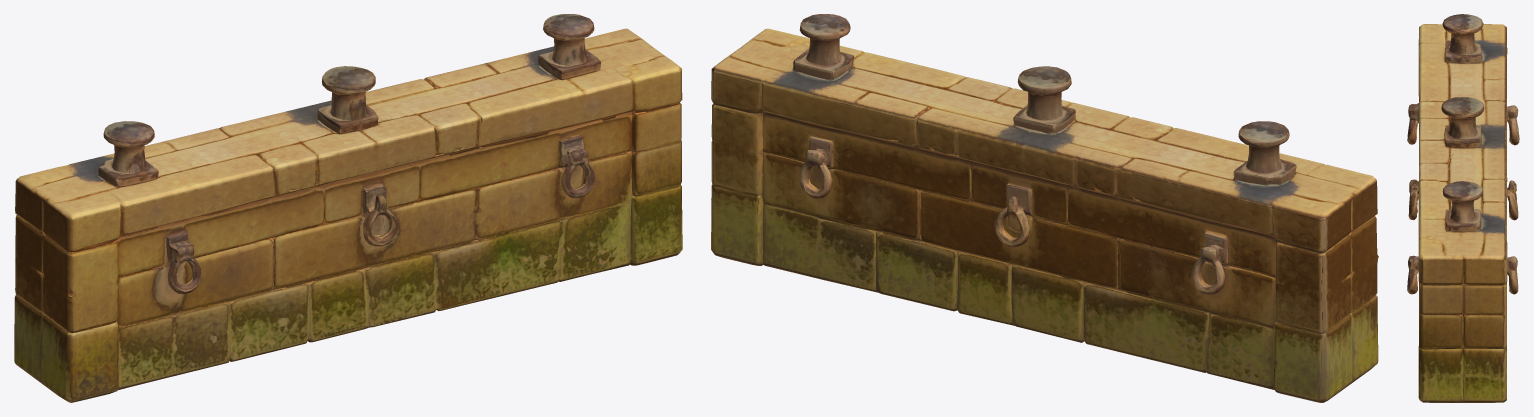
Rendered from hb_quay_straight.glb.
The picture shows the model from 3 angles, left to right: view 1: azimuth 30°, elevation 25°; view 2: azimuth 150°, elevation 25°; view 3: azimuth 270°, elevation 25°; orthographic projection. The views are drawn at different scales.
Parts seen in each view (by area): view 1: geometry_0; view 2: geometry_0; view 3: geometry_0.
Part boxes in pixels (x1=…): geometry_0: x1=14, y1=14, x2=682, y2=402; geometry_0: x1=711, y1=14, x2=1378, y2=402; geometry_0: x1=1407, y1=14, x2=1519, y2=402.
Bounding box in the file's own units: 14.78 × 5.41 × 2.98.
1 material, 1 textured.
